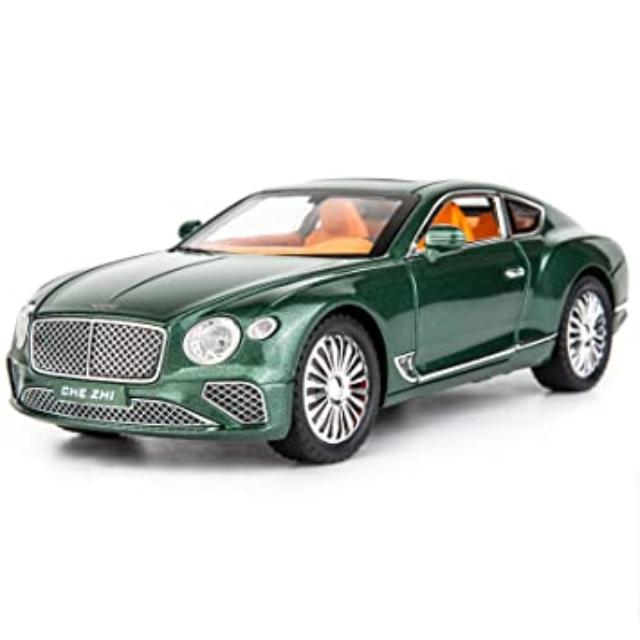bentley: (6, 178, 630, 466)
